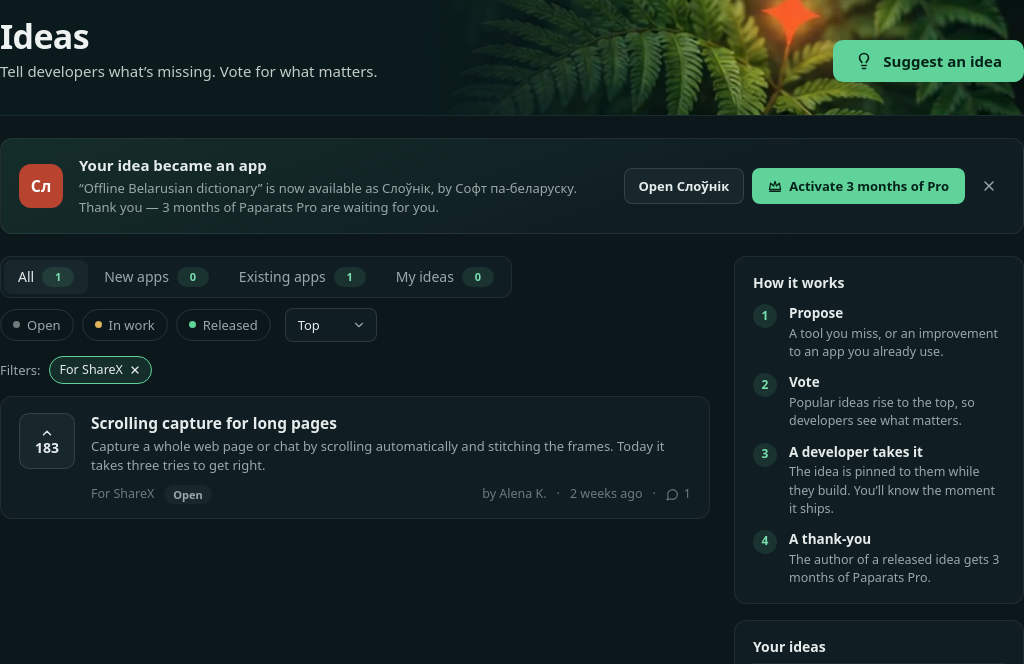
IdeasScreen › shows the app filter chip from an app page and clears it
The width and height of the screenshot is (1024, 664).
Expected: the heading "Ideas" is shown, [0,13,89,59]
Expected: the text "Filters:" is shown, [0,361,41,379]
Click the button "For ShareX": point(100, 370) [49,356,152,384]
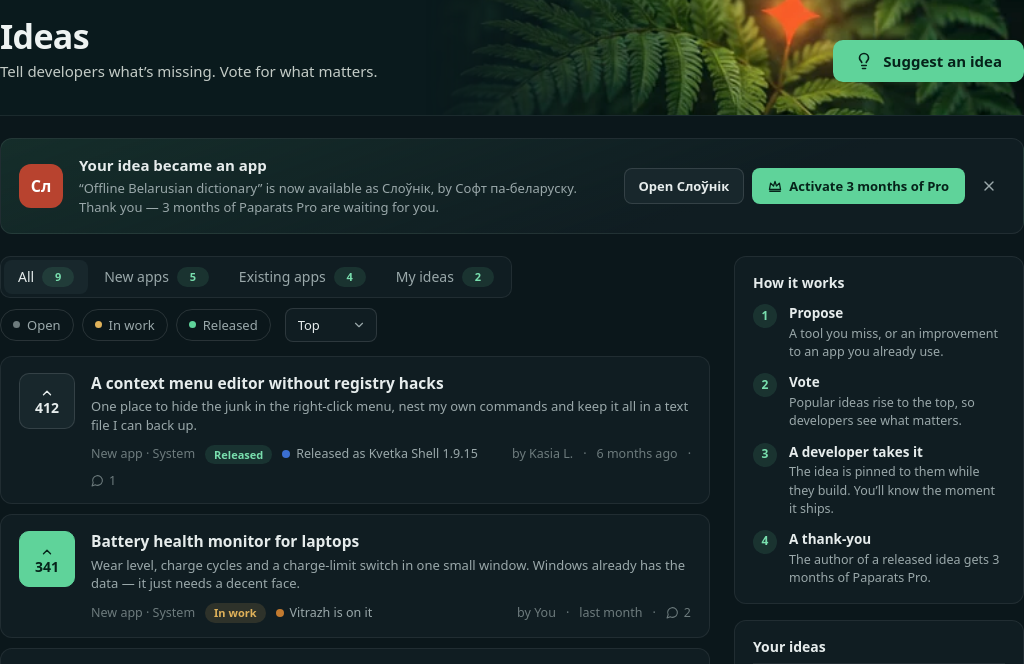
Result: the text "Filters:" is gone
Result: the tab "All 9" is shown at [4,260,88,294]
